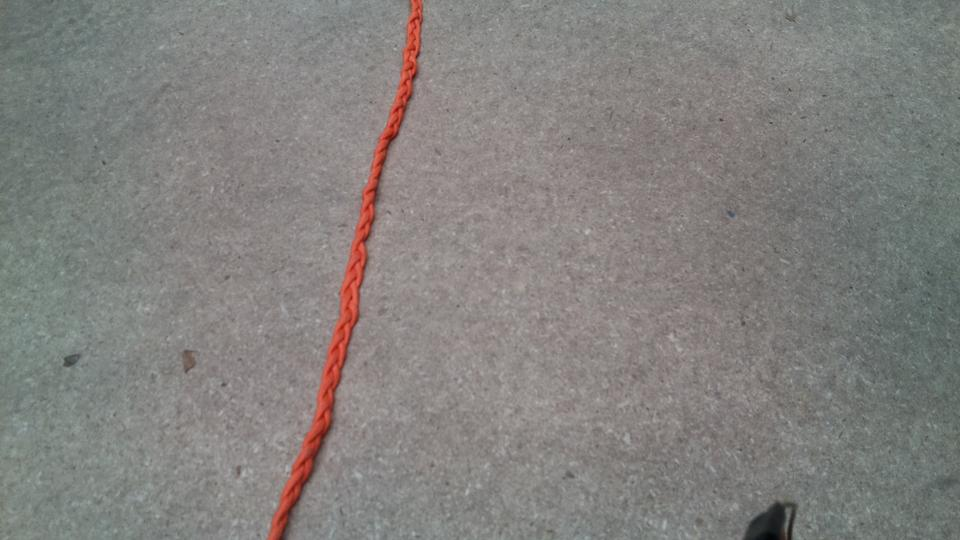rope: (262, 1, 427, 540)
